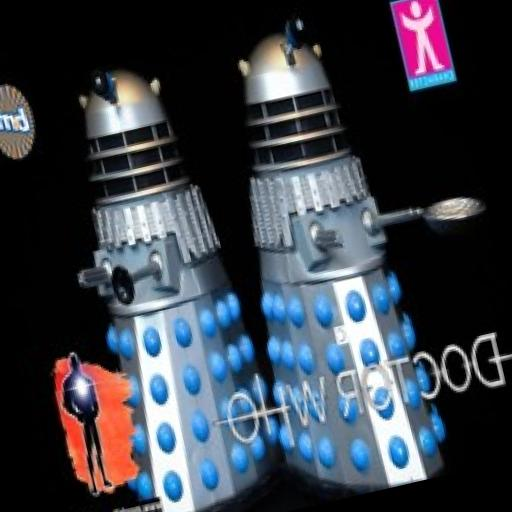dalek: (180, 0, 512, 511), (26, 46, 293, 512)
